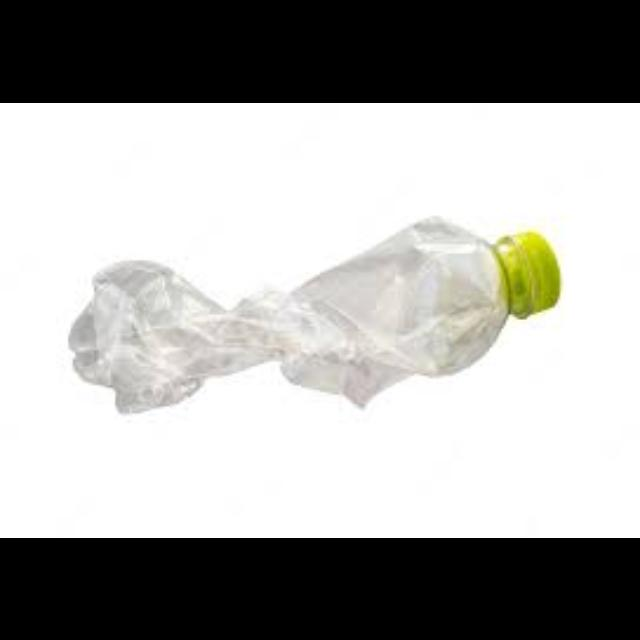trash: (64, 203, 566, 421)
